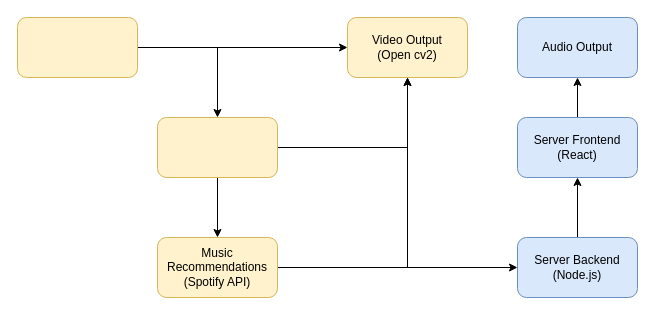
Some shapes in this 655 by 315 pixel diagram are drawn without their labels. The centre of each missing label's shape, as x and y in pixels:
"Emotion Analysis (DeepFace)" goes at (x=217, y=147).
"Video Input (Open cv2)" goes at (x=77, y=47).
